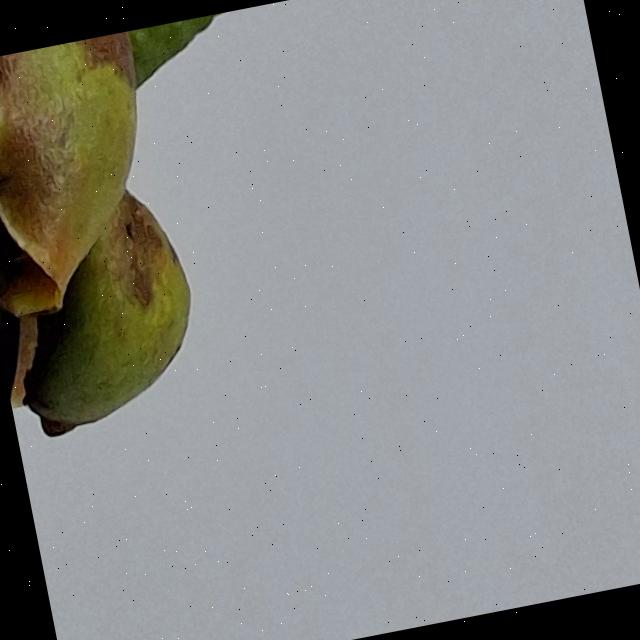mangosteen: (0, 7, 376, 640)
